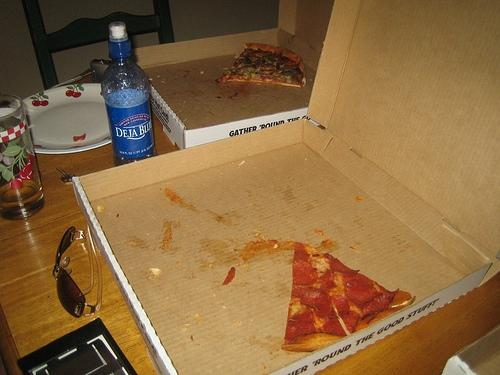cherry: (8, 178, 24, 190), (72, 84, 84, 98), (39, 92, 49, 106), (65, 86, 76, 97), (22, 165, 32, 176), (30, 97, 40, 106), (28, 154, 34, 166)
